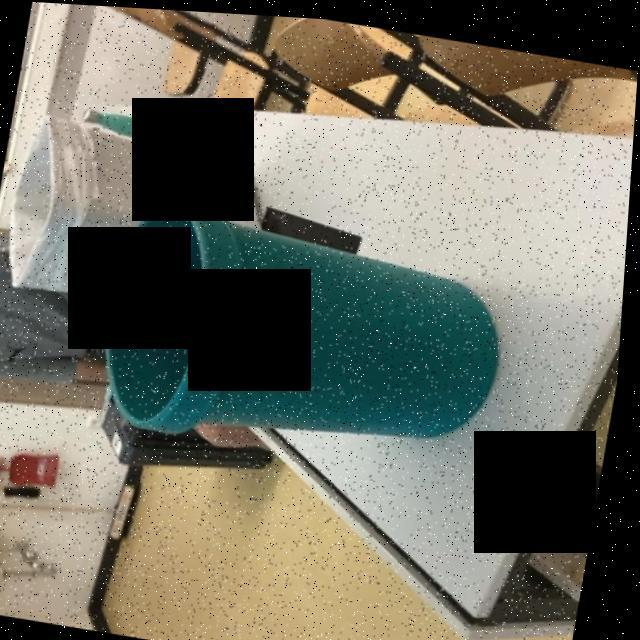bin: (74, 180, 534, 489), (0, 111, 261, 330)
